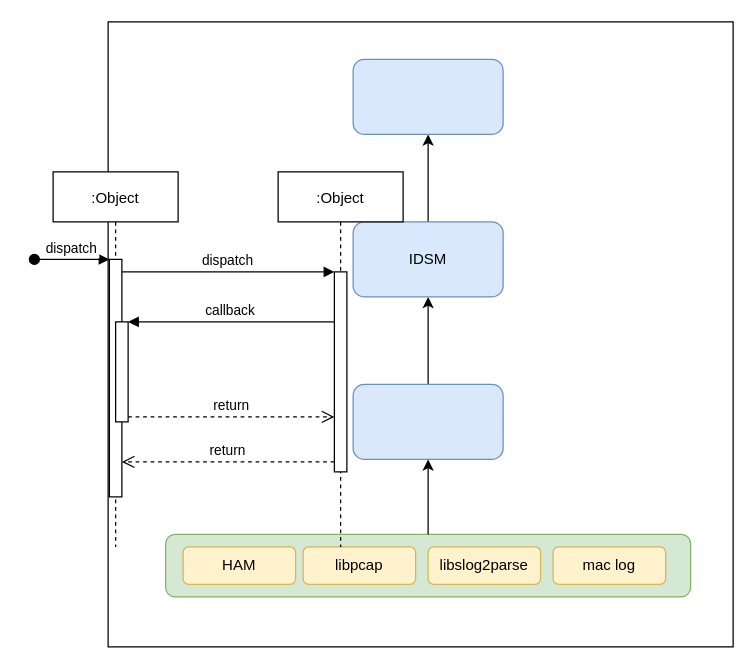
Image size: 755x669. Some labels were removed from this diagram. The centre of each missing label's shape, as x and y in pixels:
APP/显示终端: point 427,96
IDS sensor: point 427,421
